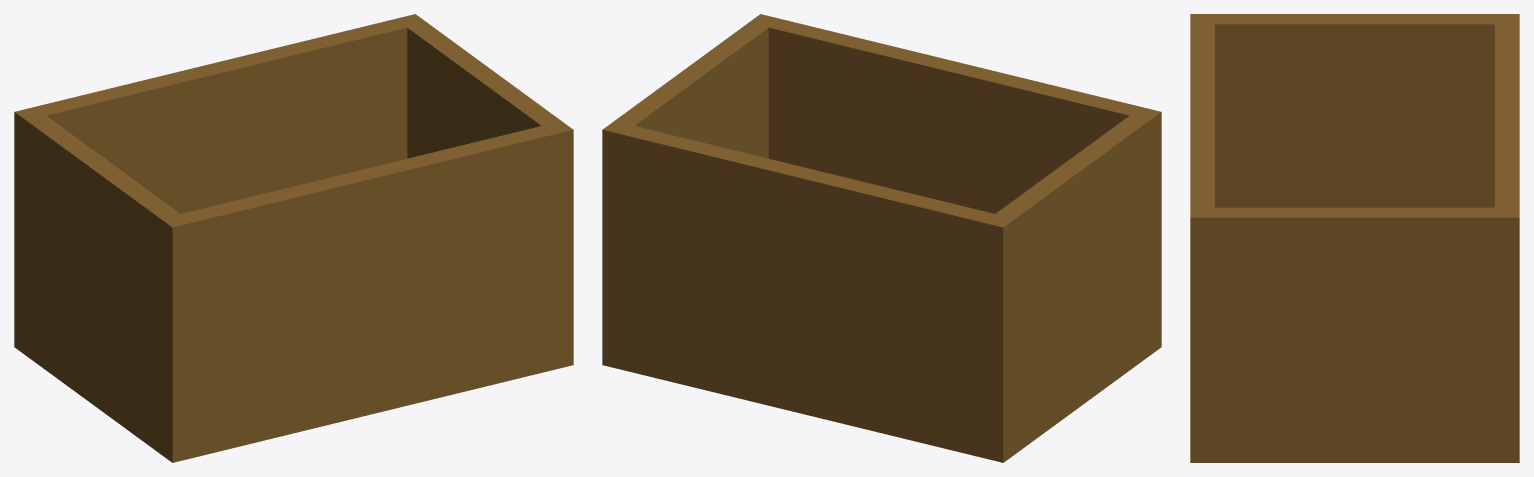
File: small container.fbx
The picture shows the model from 3 angles, left to right: view 1: azimuth 30°, elevation 25°; view 2: azimuth 150°, elevation 25°; view 3: azimuth 270°, elevation 25°; orthographic projection. The views are drawn at different scales.
Visible parts, largest first — view 1: Box; view 2: Box; view 3: Box.
Boxes of the visible parts, x1,y1,x2,y2 form: Box: (14,14,573,462); Box: (602,14,1161,462); Box: (1190,14,1519,462).
Bounding box in the file's own units: 41 × 23 × 28.
